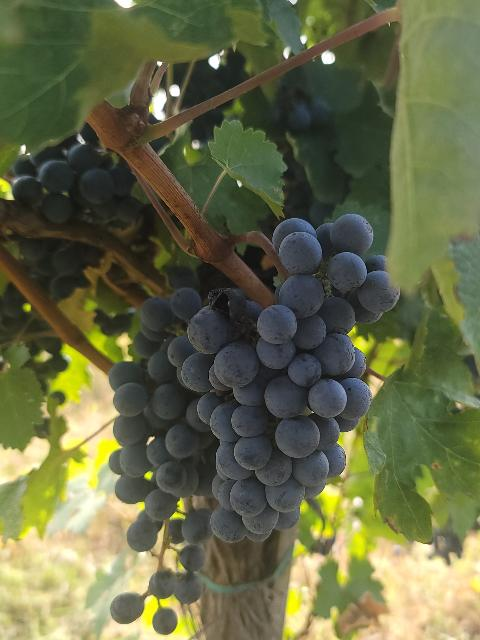grapes: (184, 214, 400, 542), (109, 288, 214, 604)
